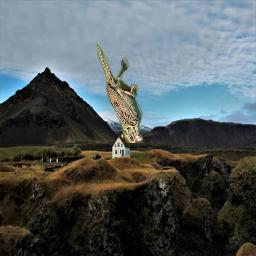Sparrow: (97, 43, 144, 143)
